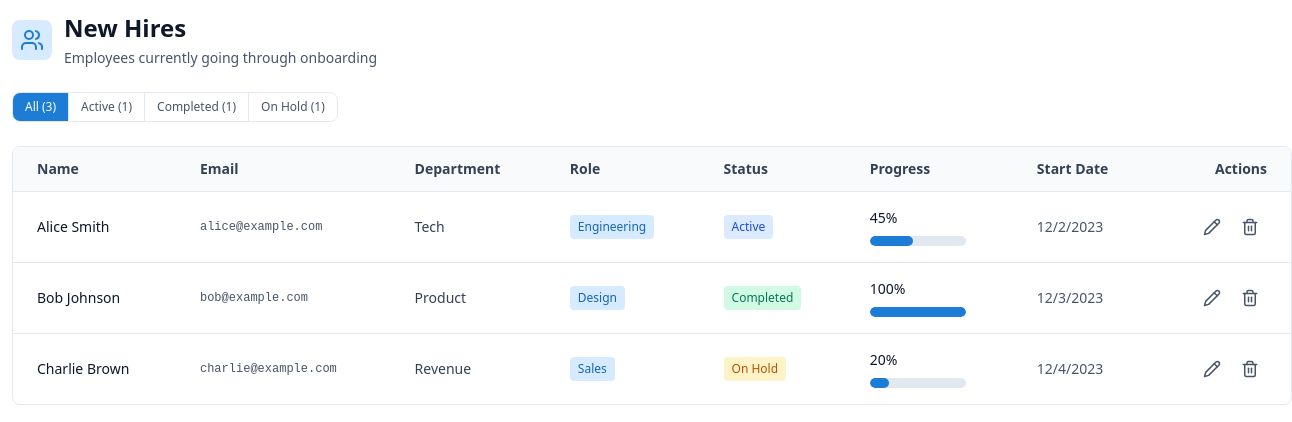
Test case: NewHiresPanel › Filtering › filters to only on_hold instances when On Hold filter clicked
The width and height of the screenshot is (1292, 422).
Click the button "On Hold (1)" at (292, 107), box [248, 93, 337, 121]
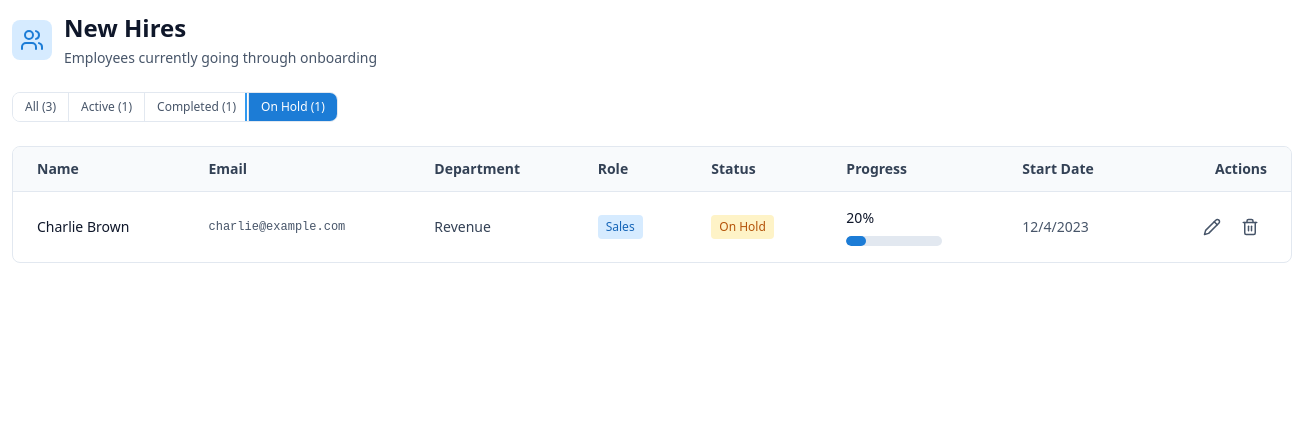
Expected: the text "Charlie Brown" is shown, [37, 217, 129, 236]
Now the text "Alice Smith" is gone
Now the text "Bob Johnson" is gone
